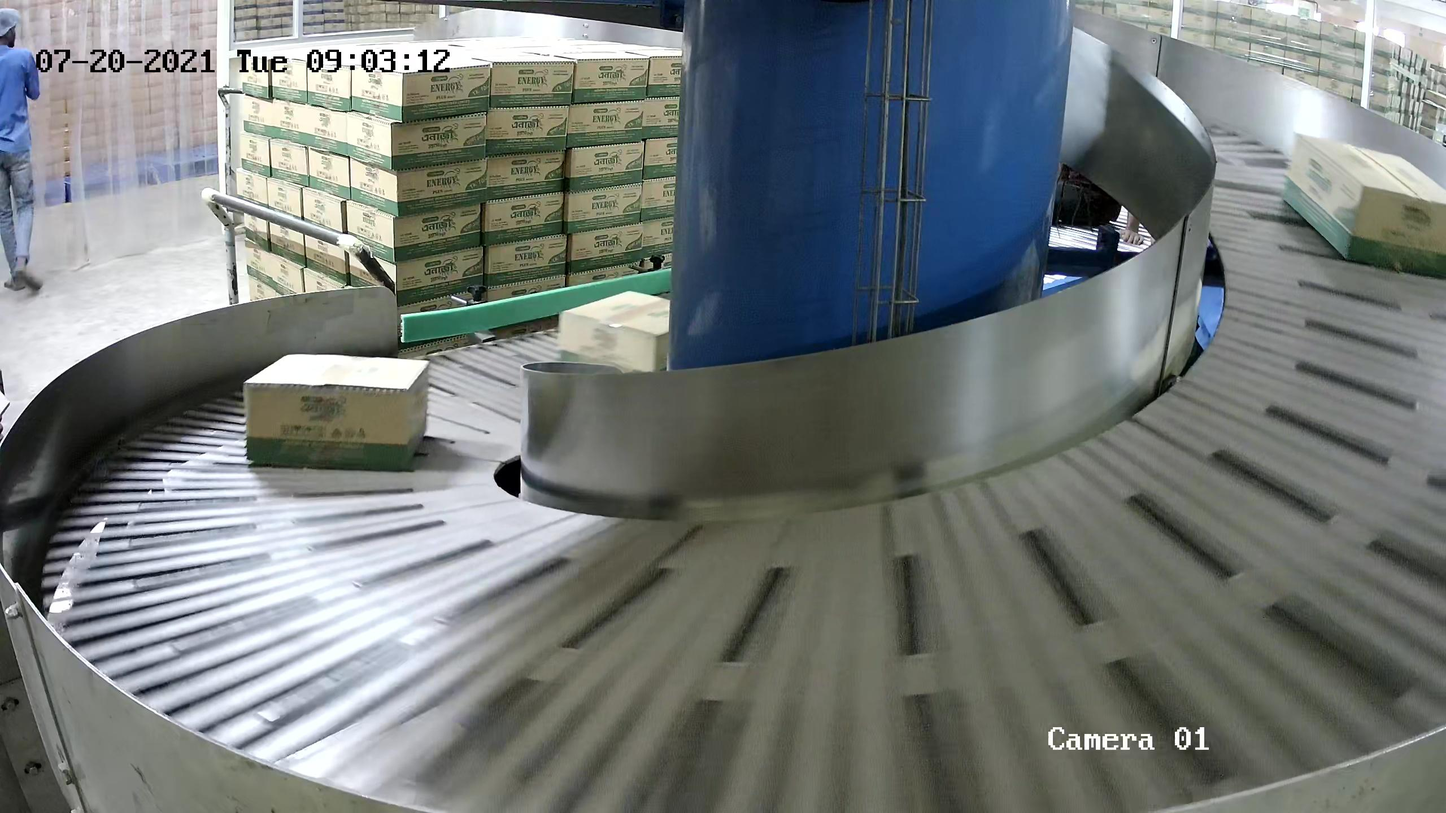Box: (1282, 131, 1446, 280), (243, 351, 430, 473), (557, 289, 709, 391)
